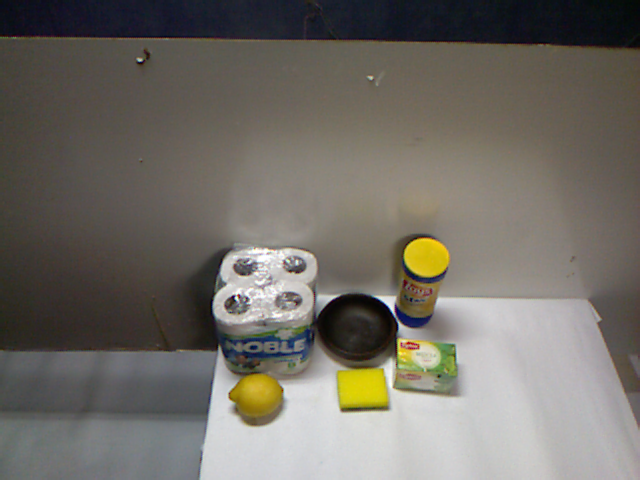borrador: (268, 334, 351, 381)
cloro: (230, 240, 295, 341)
colador: (329, 278, 497, 412)
jugoind: (213, 316, 253, 378)
pepino: (210, 371, 361, 414)
yogurt: (290, 238, 345, 348)
